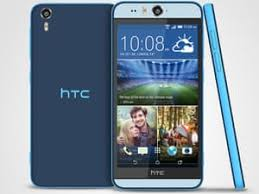htc: (111, 1, 203, 189), (28, 2, 112, 190)
